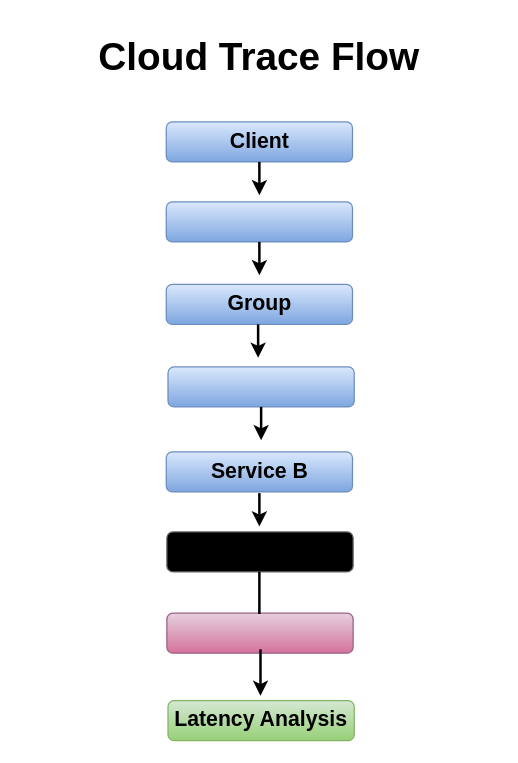
Image size: 518x763. Some labels were removed from this diagram. Here are the shapes that lost their labels. From the top down, the centre of each, then its label:
(258,221): Frontend
(260,386): Service A
(259,632): Cloud Trace
